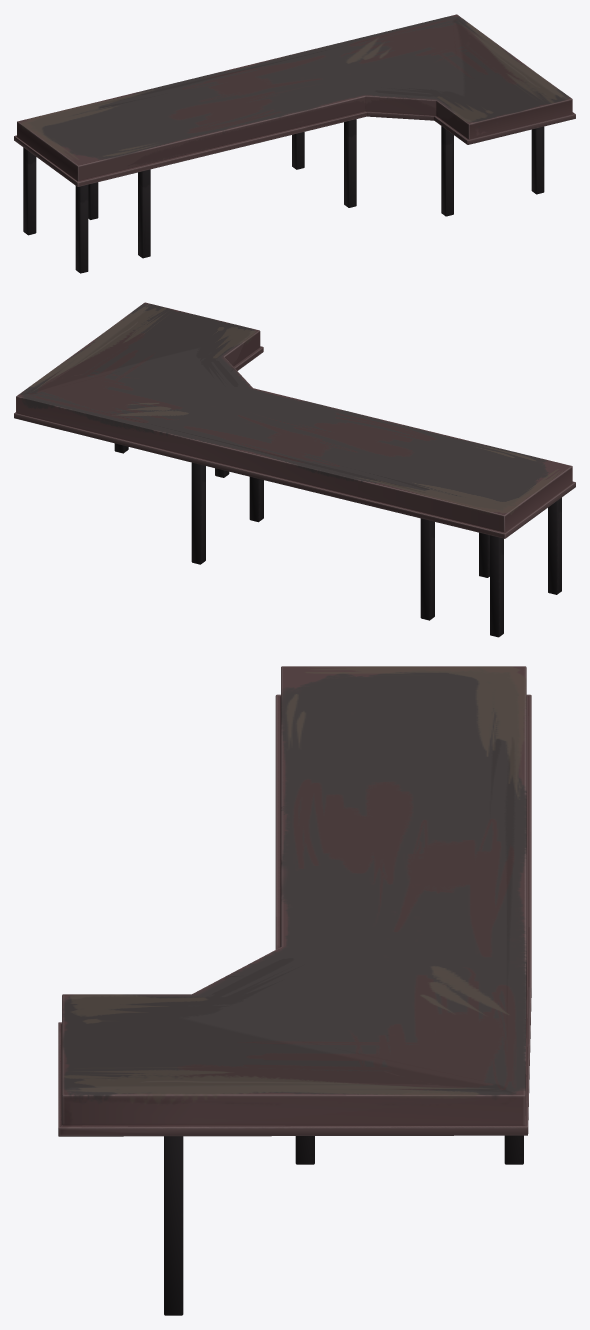
File: stol.fbx
3 renders of one model, top to bottom at view 1: azimuth 30°, elevation 25°; view 2: azimuth 150°, elevation 25°; view 3: azimuth 270°, elevation 25°, orthographic. The views are drawn at different scales.
Visible parts, largest first — view 1: desk.001, desk_base.001, desk_base.002, desk_base.003, desk_base.005, desk_base.007, desk_base.008, desk_base.006, desk_base.004; view 2: desk.001, desk_base.004, desk_base.006, desk_base.002, desk_base.001, desk_base.005, desk_base.003; view 3: desk.001, desk_base.008.
Boxes of the visible parts, x1,y1,x2,y2 form: desk.001: [14, 14, 575, 186]; desk_base.001: [75, 184, 88, 273]; desk_base.002: [23, 147, 36, 235]; desk_base.003: [138, 169, 150, 258]; desk_base.005: [344, 119, 356, 207]; desk_base.007: [441, 126, 453, 216]; desk_base.008: [531, 126, 544, 194]; desk_base.006: [292, 132, 304, 169]; desk_base.004: [88, 182, 98, 219]; desk.001: [14, 302, 575, 538]; desk_base.004: [420, 518, 434, 620]; desk_base.006: [191, 462, 205, 564]; desk_base.002: [490, 535, 503, 637]; desk_base.001: [548, 497, 561, 594]; desk_base.005: [249, 477, 263, 522]; desk_base.003: [479, 532, 489, 577]; desk.001: [58, 666, 531, 1136]; desk_base.008: [164, 1136, 183, 1315].
Bounding box in the file's own units: 415 × 99.85 × 192.
